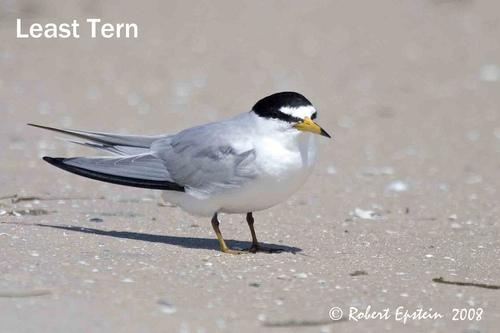bird: (30, 89, 330, 258)
